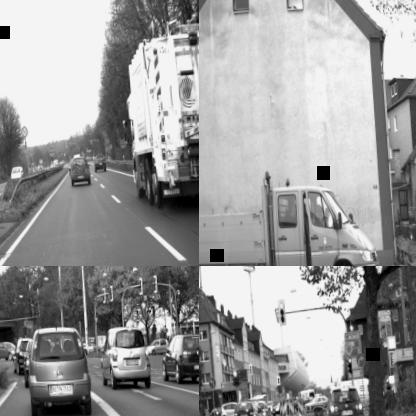go left or straight: (209, 376, 216, 390)
go right or straight: (356, 352, 366, 368)
priority road: (344, 342, 353, 357)
speed limit 50: (22, 126, 29, 137)
